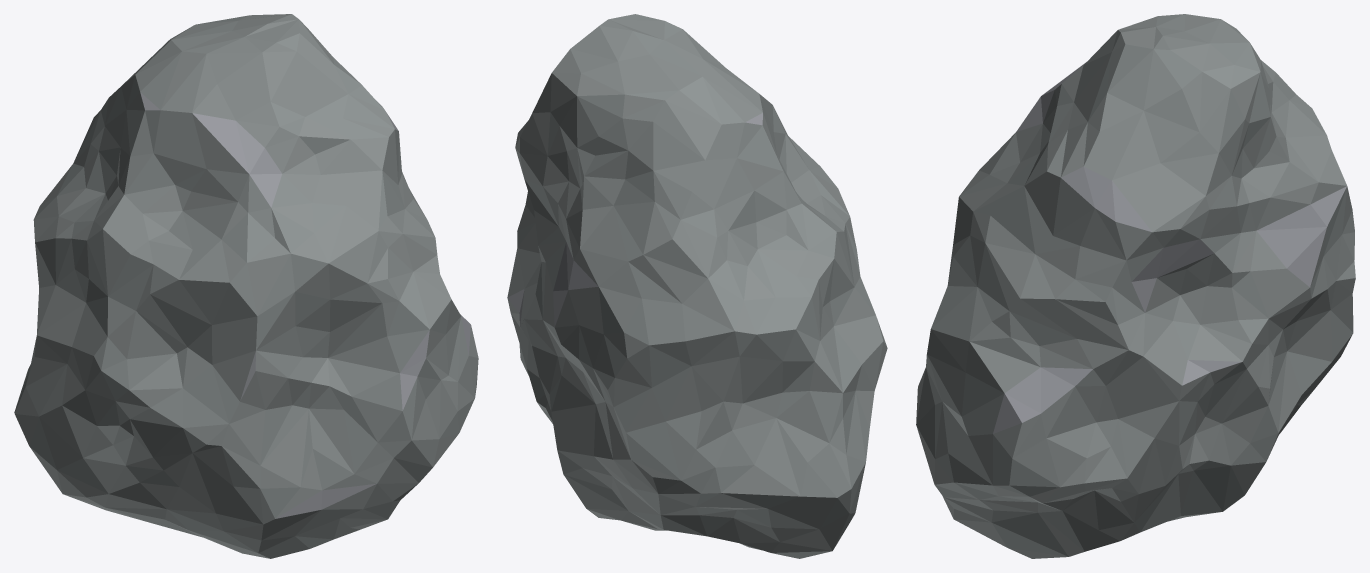
Rendered from mesh_rock_big_03.fbx.
3 renders of one model, left to right at view 1: azimuth 30°, elevation 25°; view 2: azimuth 150°, elevation 25°; view 3: azimuth 270°, elevation 25°, orthographic. The views are drawn at different scales.
Parts seen in each view (by area): view 1: mesh_rock_big_03_LOD0; view 2: mesh_rock_big_03_LOD0; view 3: mesh_rock_big_03_LOD0.
Part boxes in pixels (left/top/right/bottom): mesh_rock_big_03_LOD0: left=14, top=14, right=478, bottom=558; mesh_rock_big_03_LOD0: left=507, top=14, right=887, bottom=558; mesh_rock_big_03_LOD0: left=916, top=14, right=1355, bottom=558.
Size of what is drawn, in the model's own units: 2.62 by 3.27 by 2.47.
